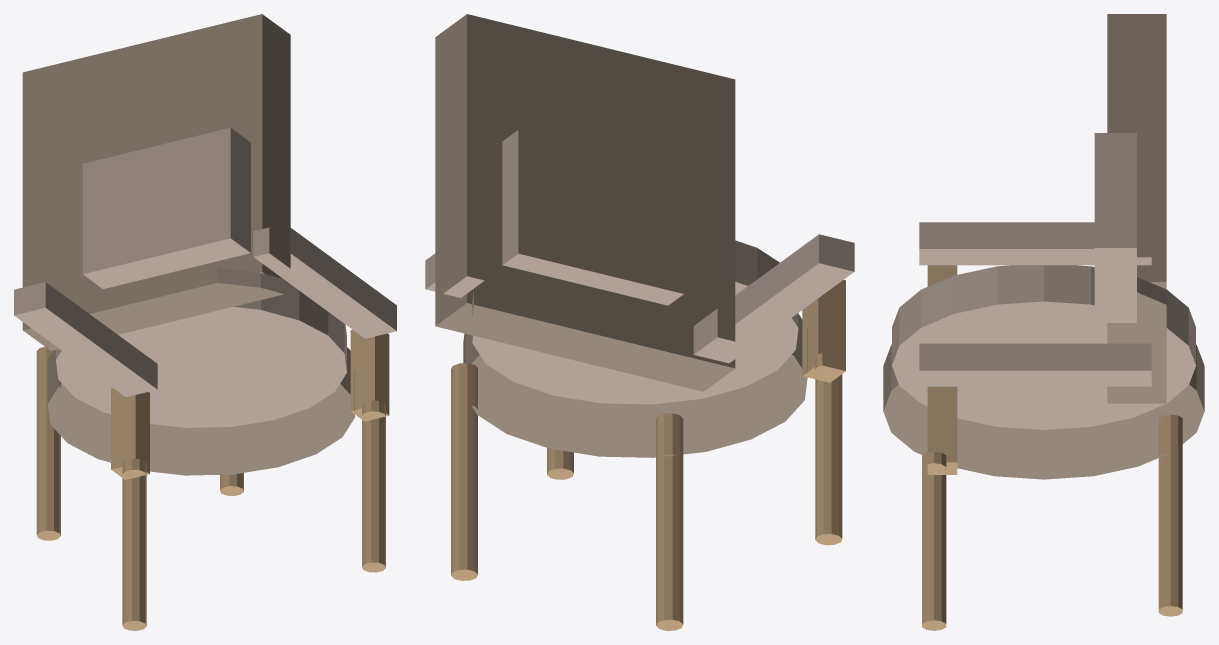
The model's file is berjer.glb.
3 renders of one model, left to right at view 1: azimuth 30°, elevation 25°; view 2: azimuth 150°, elevation 25°; view 3: azimuth 270°, elevation 25°, orthographic. The views are drawn at different scales.
Size of the model in its own units: 0.77 by 1.28 by 0.76.
